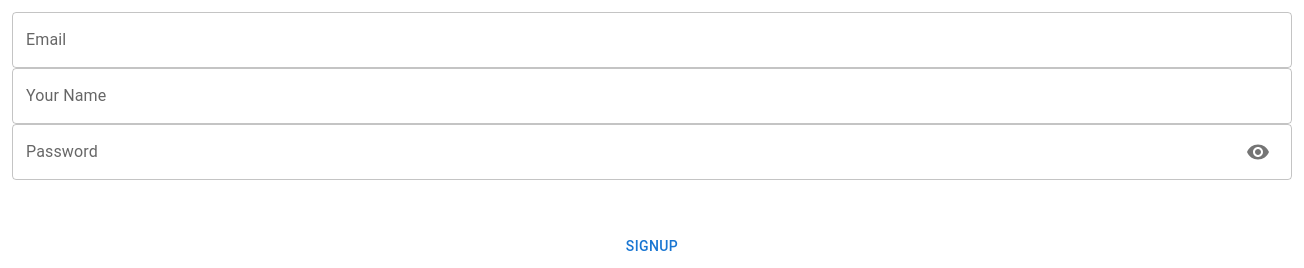
Test: auth form › changing password visibility
Expected: the icon with test id "icon-visibility-off" is shown, x1=1246 y1=140 x2=1270 y2=164
Click the button named "toggle password visibility": {"x": 1258, "y": 152} x1=1238 y1=132 x2=1278 y2=172
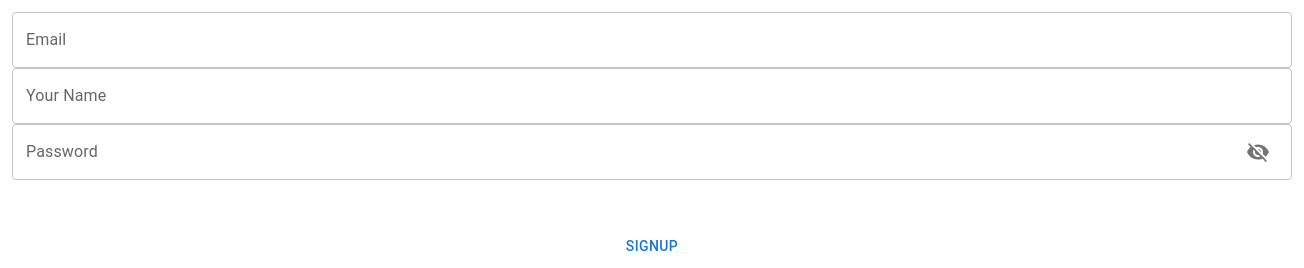
Result: the icon with test id "icon-visibility-on" is shown at x1=1246 y1=140 x2=1270 y2=164
